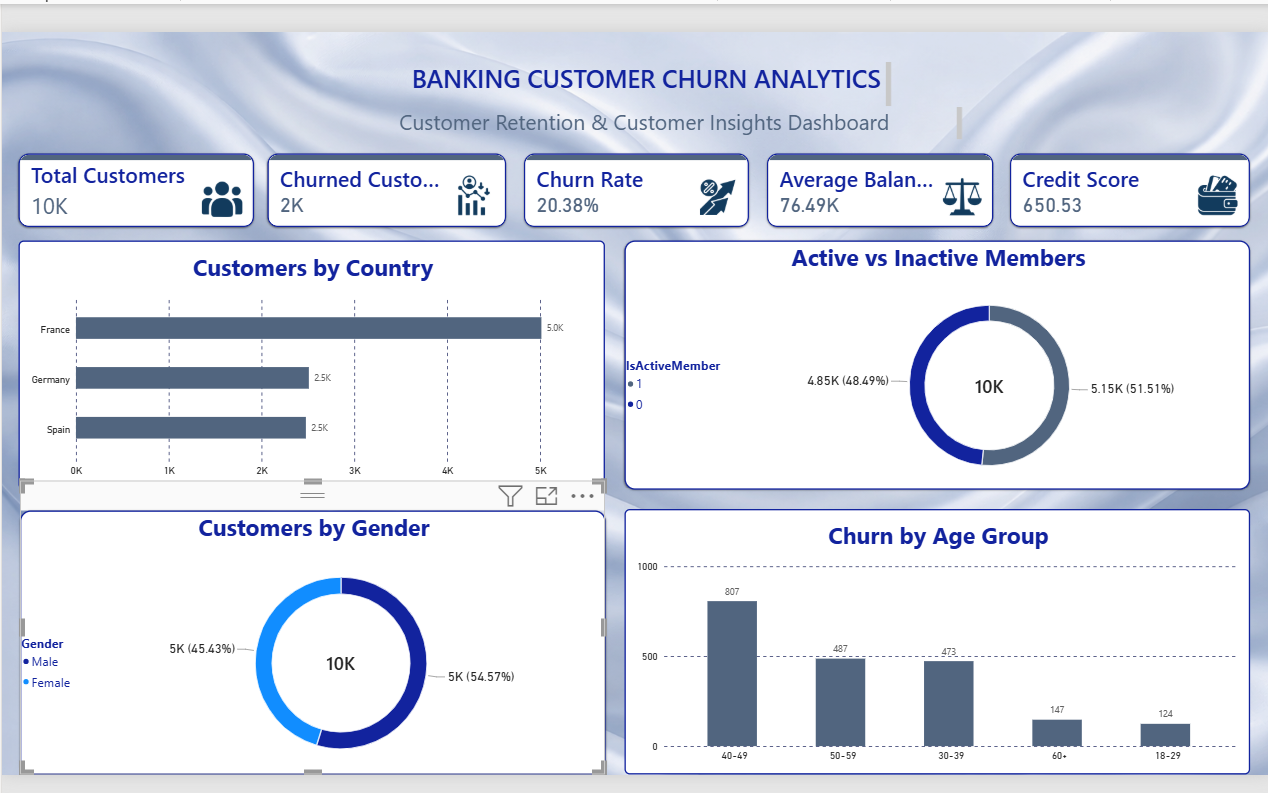

Layout of this report page (visuals, bound fields, positions):
{"tool":"powerbi","page":{"name":"Executive Overview","canvas":[1920,1080],"ordinal":0},"visuals":[{"type":"textbox","box":[611,0,735.2,67.4],"z":0},{"type":"textbox","box":[499.7,68.1,953.9,54.5],"z":1000},{"type":"cardVisual","fields":{"Data":["Customer-Churn-Records.Total Customers"]},"box":[25,138.5,356.6,111.3],"z":2000},{"type":"cardVisual","fields":{"Data":["Customer-Churn-Records.Churned Customers"]},"box":[402,138.5,361.1,111.3],"z":3000},{"type":"cardVisual","fields":{"Data":["Customer-Churn-Records.Churn Rate"]},"box":[790.4,138.5,340.7,111.3],"z":4000},{"type":"cardVisual","fields":{"Data":["Customer-Churn-Records.Average Balance"]},"box":[1158.4,138.5,343,111.3],"z":5000},{"type":"cardVisual","fields":{"Data":["Customer-Churn-Records.Average Credit Score"]},"box":[1526.3,138.5,363.4,111.3],"z":6000},{"type":"clusteredBarChart","title":"Customers by Country","fields":{"Category":["Customer-Churn-Records.Geography"],"Y":["CountNonNull(Customer-Churn-Records.CustomerId)"]},"box":[25,270.3,888.1,377],"z":7000},{"type":"donutChart","title":"Customers by Gender","fields":{"Category":["Customer-Churn-Records.Gender"],"Y":["Customer-Churn-Records.Total Customers"]},"box":[26.7,680,886.7,400],"z":8000},{"type":"donutChart","title":"Active vs Inactive Members","fields":{"Category":["Customer-Churn-Records.IsActiveMember"],"Y":["CountNonNull(Customer-Churn-Records.Activity Status)"]},"box":[942.6,270.3,947.1,377],"z":9000},{"type":"clusteredColumnChart","title":"Churn by Age Group","fields":{"Category":["Customer-Churn-Records.Age Group"],"Y":["Customer-Churn-Records.Churned Customers"]},"box":[942.2,677.8,947.1,402],"z":10000}]}

Visuals, with their boxes in screenshot pixels (x1, y1, x2, y2):
textbox: [408, 66, 887, 110]
textbox: [335, 110, 957, 146]
cardVisual - Customer-Churn-Records.Total Customers: [26, 156, 258, 229]
cardVisual - Customer-Churn-Records.Churned Customers: [272, 156, 507, 229]
cardVisual - Customer-Churn-Records.Churn Rate: [525, 156, 747, 229]
cardVisual - Customer-Churn-Records.Average Balance: [764, 156, 988, 229]
cardVisual - Customer-Churn-Records.Average Credit Score: [1004, 156, 1241, 229]
"Customers by Country" clusteredBarChart: [26, 242, 605, 488]
"Customers by Gender" donutChart: [27, 509, 605, 769]
"Active vs Inactive Members" donutChart: [624, 242, 1241, 488]
"Churn by Age Group" clusteredColumnChart: [624, 507, 1240, 769]
